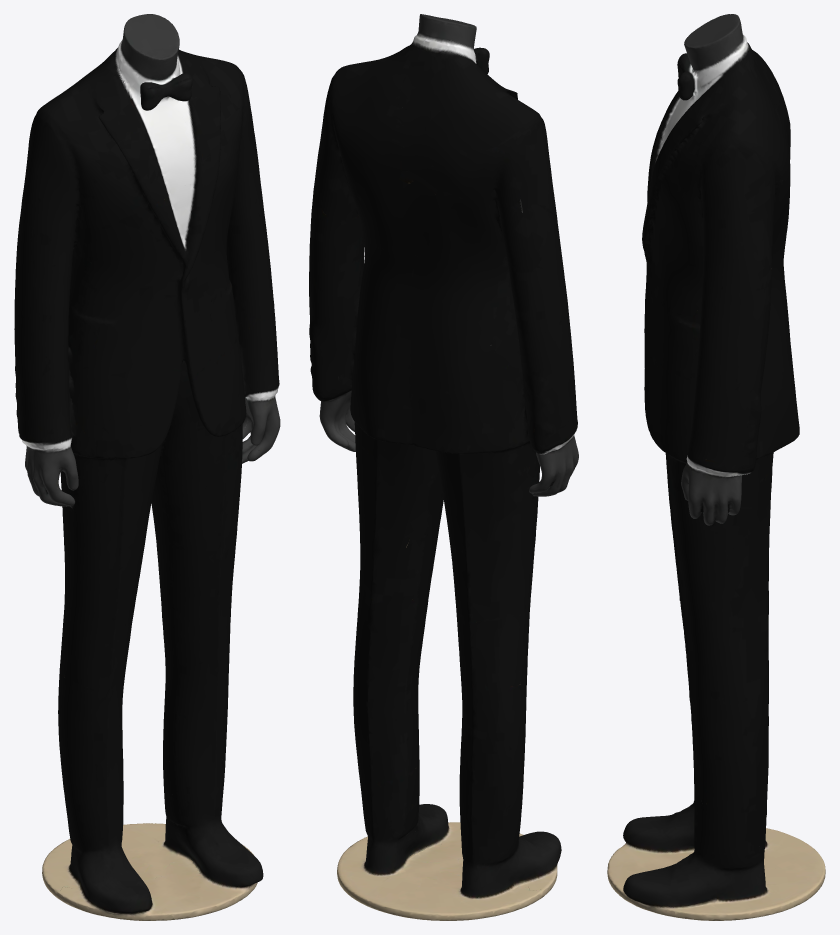
Rendered from midnight-tuxedo.glb.
The picture shows the model from 3 angles, left to right: view 1: azimuth 30°, elevation 25°; view 2: azimuth 150°, elevation 25°; view 3: azimuth 270°, elevation 25°; orthographic projection.
Size of the model in its own units: 0.5838 by 1.9 by 0.4391.
1 material, 1 textured.
